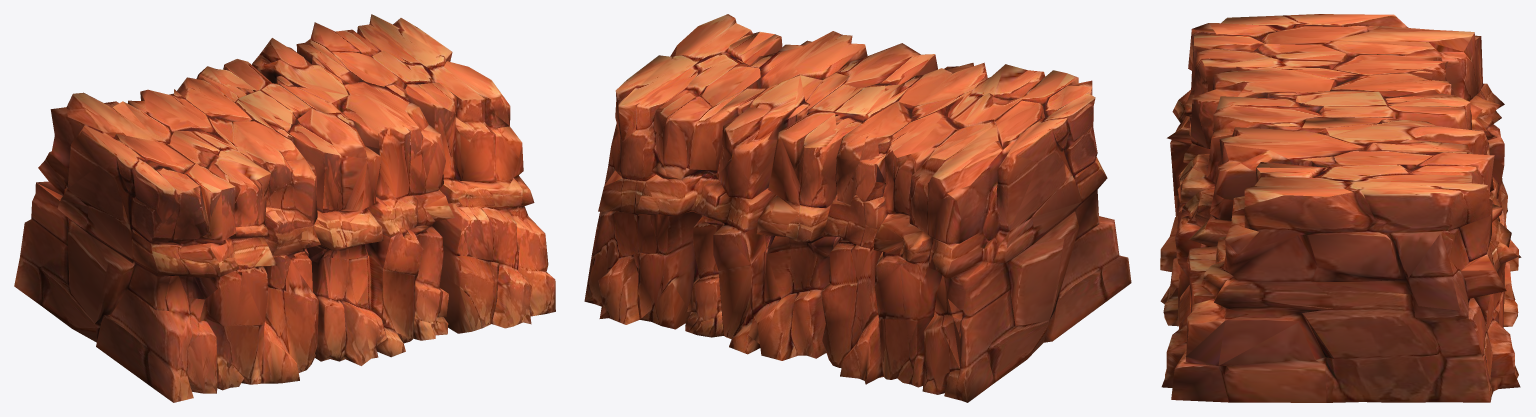
File: rockC.glb
3 renders of one model, left to right at view 1: azimuth 30°, elevation 25°; view 2: azimuth 150°, elevation 25°; view 3: azimuth 270°, elevation 25°, orthographic. The views are drawn at different scales.
Visible parts, largest first — view 1: RedRockKitC; view 2: RedRockKitC; view 3: RedRockKitC.
Boxes of the visible parts, <box> form: RedRockKitC: <box>14,14,555,402</box>; RedRockKitC: <box>584,14,1131,402</box>; RedRockKitC: <box>1160,14,1521,402</box>.
Size of the model in its own units: 6.82 by 3.4 by 5.42.
Materials: 1 (1 with a texture image).
